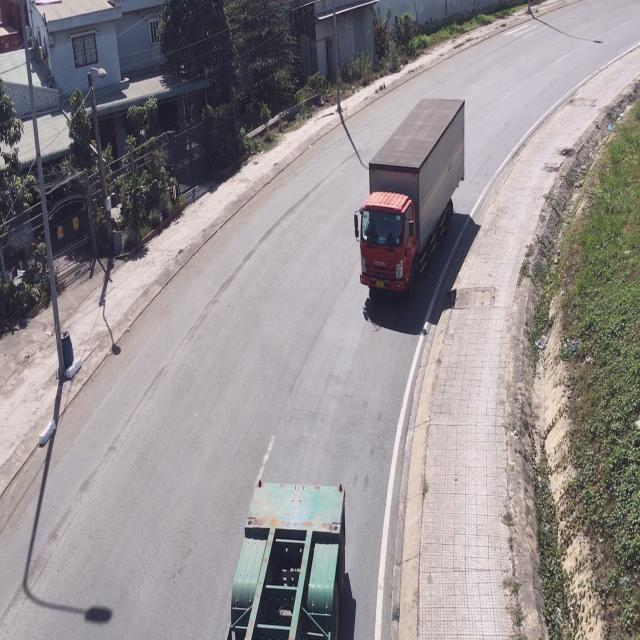truck: (356, 92, 468, 297), (224, 481, 344, 640)
